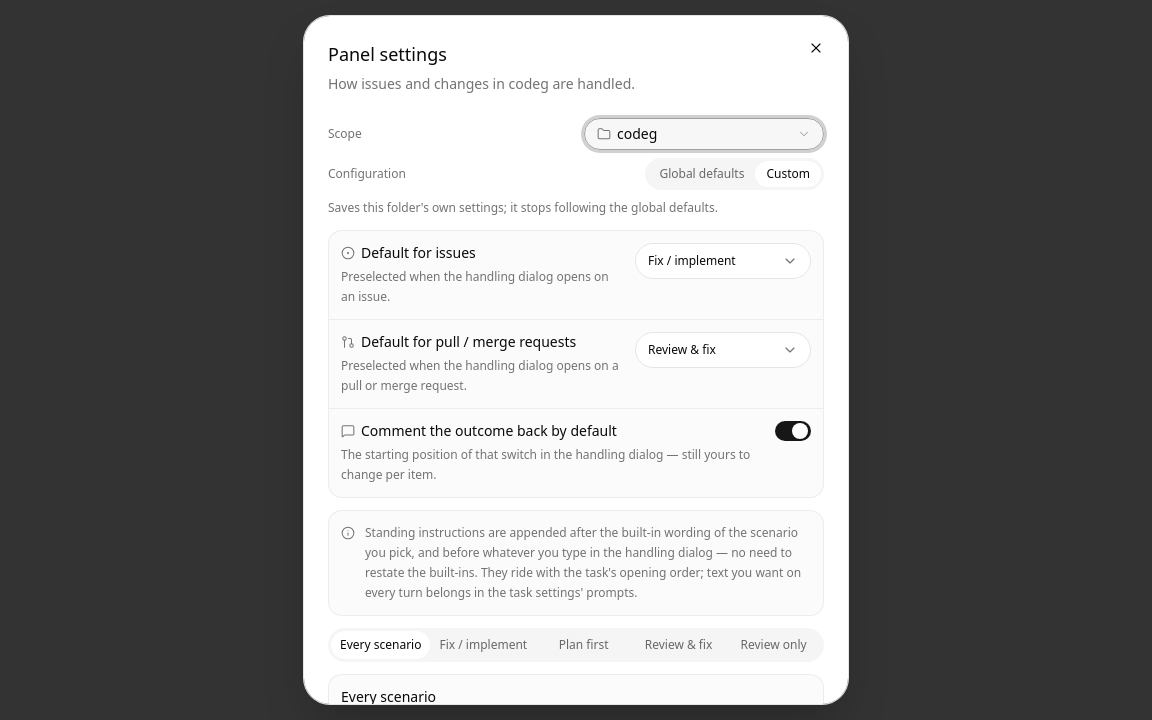
Test: ForgeSettingsDialog folder scope › re-seeds when the scope picker moves to the global row
Expected: the dropdown named "Default for issues" reads "Fix / implement", [635,243,811,279]
Click the button "codeg": point(704, 134) [584,118,824,150]
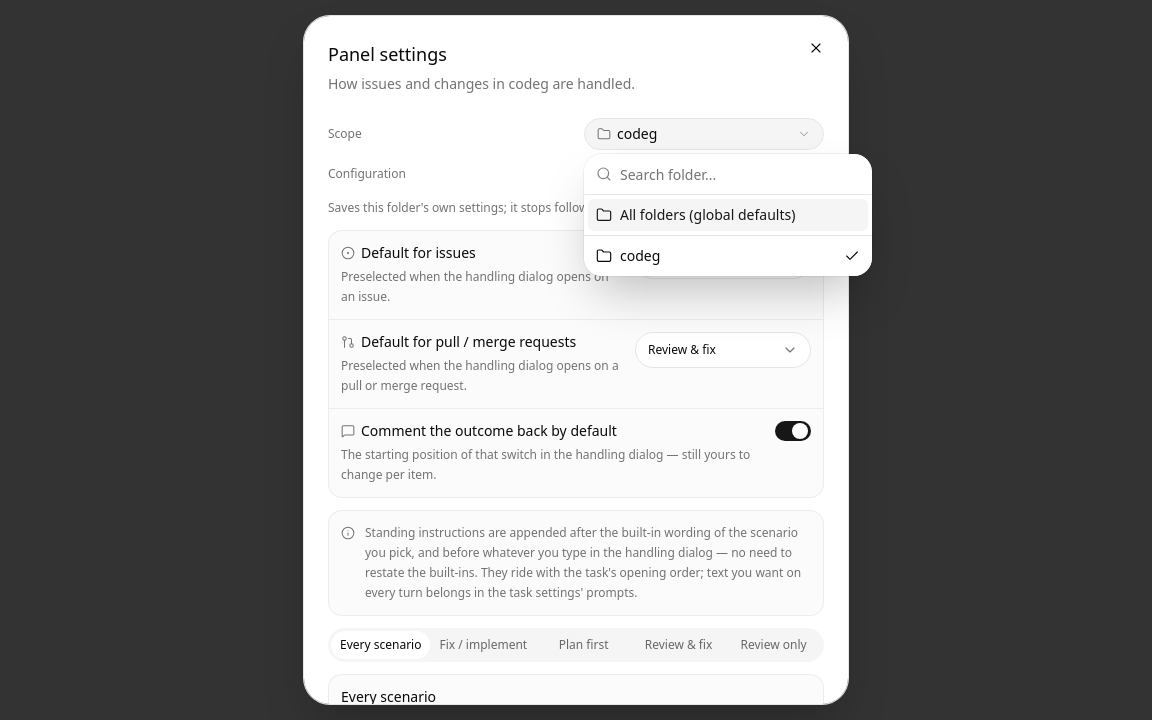
Click the option "All folders (global defaults)": point(728, 215) [588,199,868,231]
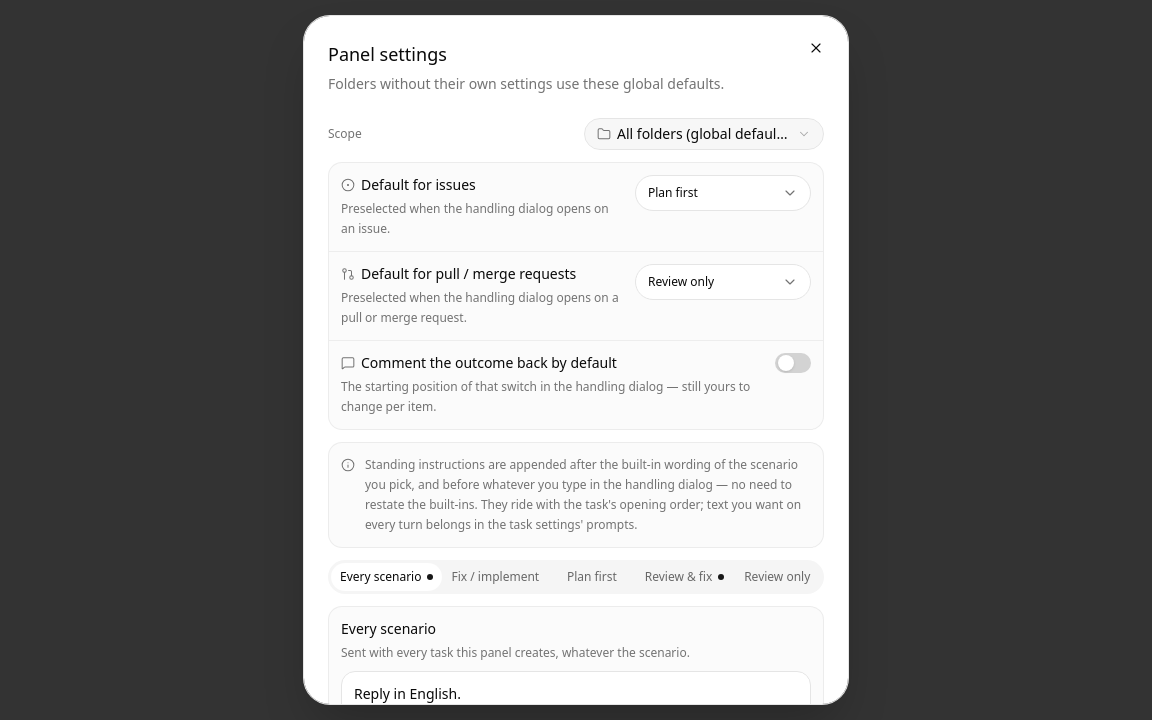
Result: the dropdown named "Default for issues" reads "Plan first" at [635,175,811,211]
Result: the tab "Custom" is gone
